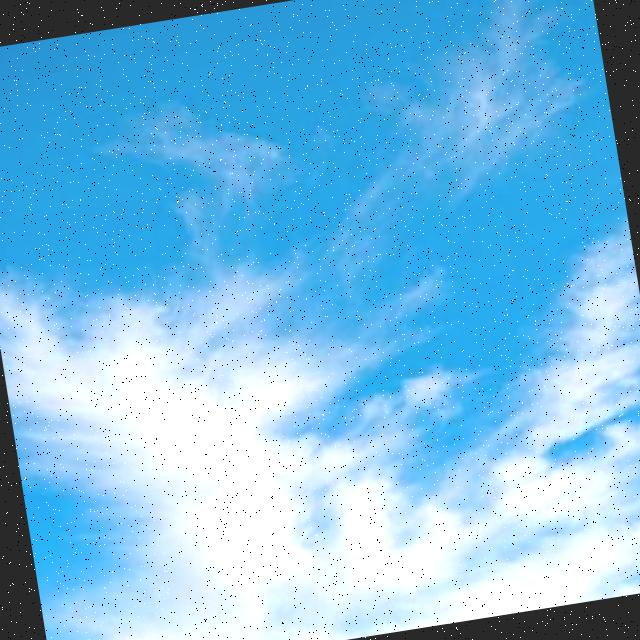Cs: (1, 151, 640, 640)
